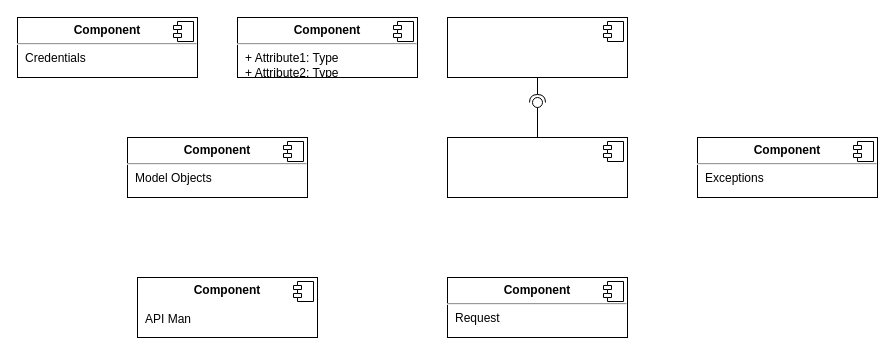
The diagram is 895 pixels wide and 355 high, and some of its shapes have lost their labels. Here are the shapes that lost their labels. From the top down, the box of each, then its label:
(446, 16, 628, 78): Component Detailed
(446, 136, 628, 198): Component Enumeration
